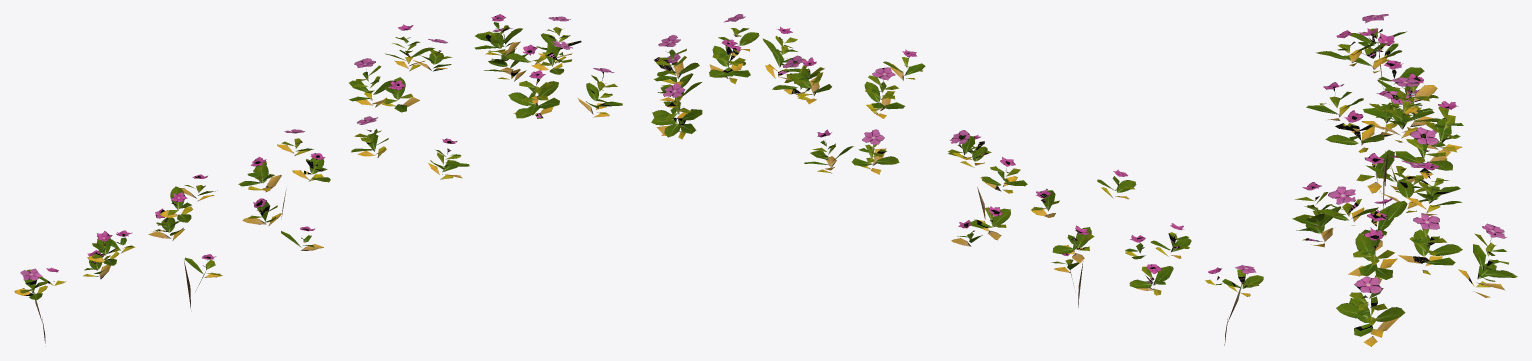
File: periwinkle_plant.glb
3 views of the same model, side by side, from view 1: azimuth 30°, elevation 25°; view 2: azimuth 150°, elevation 25°; view 3: azimuth 270°, elevation 25° (orthographic). The views are drawn at different scales.
Parts seen in each view (by area): view 1: periwinkle_plant_01_LOD0, periwinkle_plant_02_LOD0, periwinkle_plant_03_LOD0, periwinkle_plant_04_LOD0, periwinkle_plant_05_LOD0, periwinkle_plant_06_LOD0; view 2: periwinkle_plant_01_LOD0, periwinkle_plant_02_LOD0, periwinkle_plant_03_LOD0, periwinkle_plant_04_LOD0, periwinkle_plant_05_LOD0, periwinkle_plant_06_LOD0; view 3: periwinkle_plant_01_LOD0, periwinkle_plant_02_LOD0, periwinkle_plant_03_LOD0, periwinkle_plant_04_LOD0, periwinkle_plant_05_LOD0, periwinkle_plant_06_LOD0.
Part boxes in pixels (bbox=[...]): periwinkle_plant_01_LOD0: bbox=[474, 14, 622, 118]; periwinkle_plant_02_LOD0: bbox=[349, 24, 469, 179]; periwinkle_plant_03_LOD0: bbox=[238, 129, 330, 250]; periwinkle_plant_04_LOD0: bbox=[148, 174, 222, 310]; periwinkle_plant_05_LOD0: bbox=[83, 230, 134, 279]; periwinkle_plant_06_LOD0: bbox=[14, 267, 65, 346]; periwinkle_plant_01_LOD0: bbox=[651, 14, 805, 139]; periwinkle_plant_02_LOD0: bbox=[772, 49, 925, 174]; periwinkle_plant_03_LOD0: bbox=[948, 130, 1027, 246]; periwinkle_plant_04_LOD0: bbox=[1031, 169, 1136, 307]; periwinkle_plant_05_LOD0: bbox=[1125, 223, 1191, 295]; periwinkle_plant_06_LOD0: bbox=[1205, 265, 1263, 345]; periwinkle_plant_01_LOD0: bbox=[1292, 162, 1517, 346]; periwinkle_plant_02_LOD0: bbox=[1306, 77, 1463, 283]; periwinkle_plant_03_LOD0: bbox=[1325, 90, 1422, 251]; periwinkle_plant_04_LOD0: bbox=[1316, 30, 1440, 208]; periwinkle_plant_05_LOD0: bbox=[1343, 28, 1438, 109]; periwinkle_plant_06_LOD0: bbox=[1349, 14, 1406, 88].
Size of the model in its own units: 1.24 by 0.4107 by 0.3207.
1 material, 1 textured.
